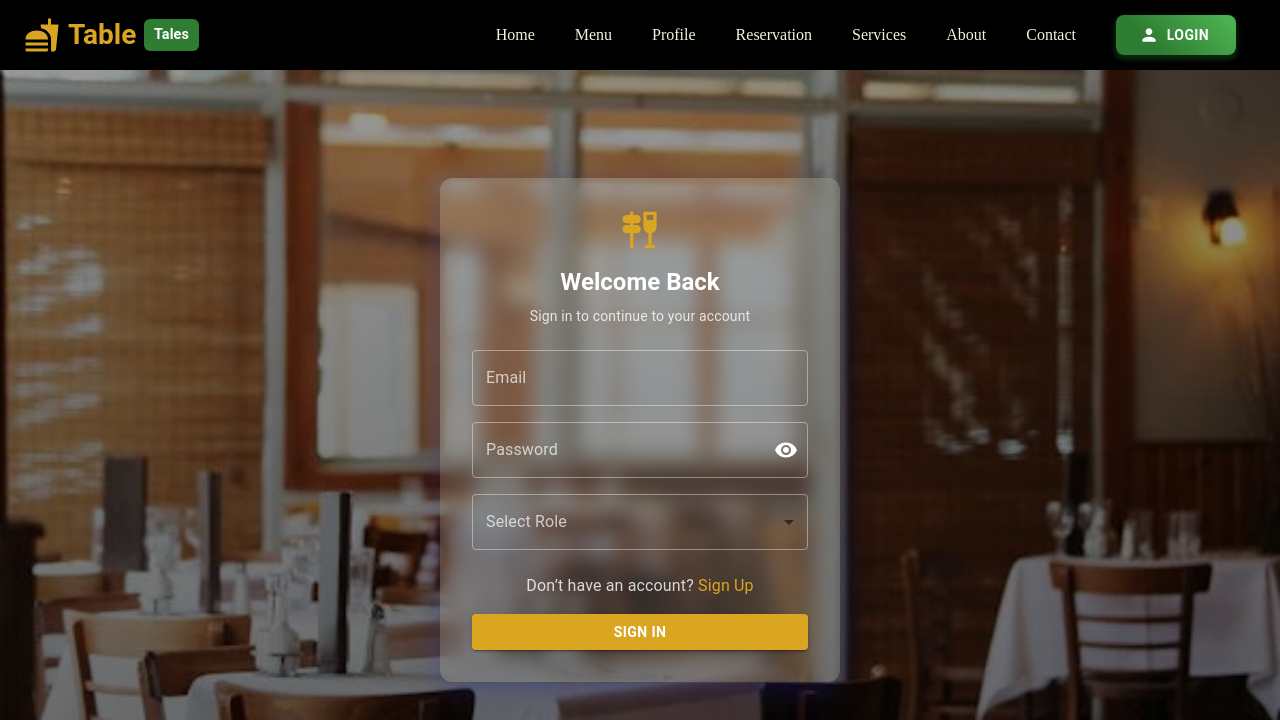
Test case: Signin Page Tests › should show error for invalid email
Type "invalid-email" into the field with test id "email-input" at x=640, y=378, box x1=472 y1=350 x2=808 y2=406
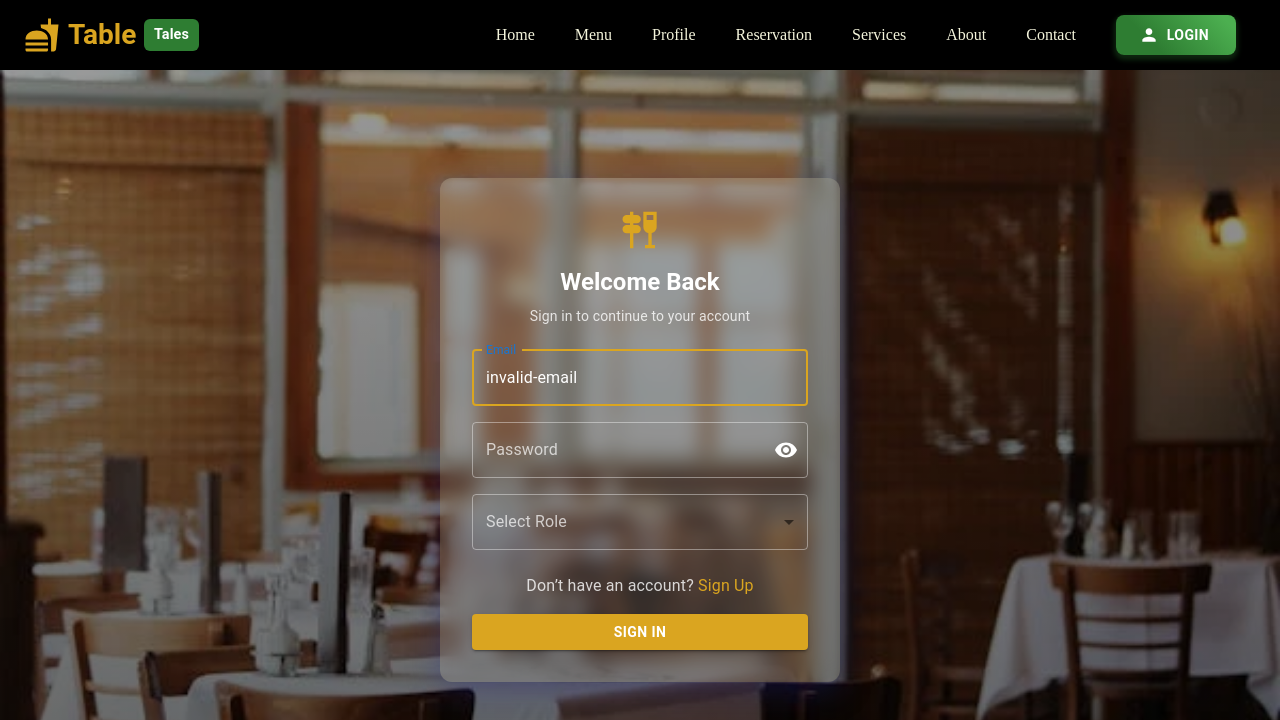
Type "password123" into the element with test id "password-input" at x=640, y=450, box x1=472 y1=422 x2=808 y2=478
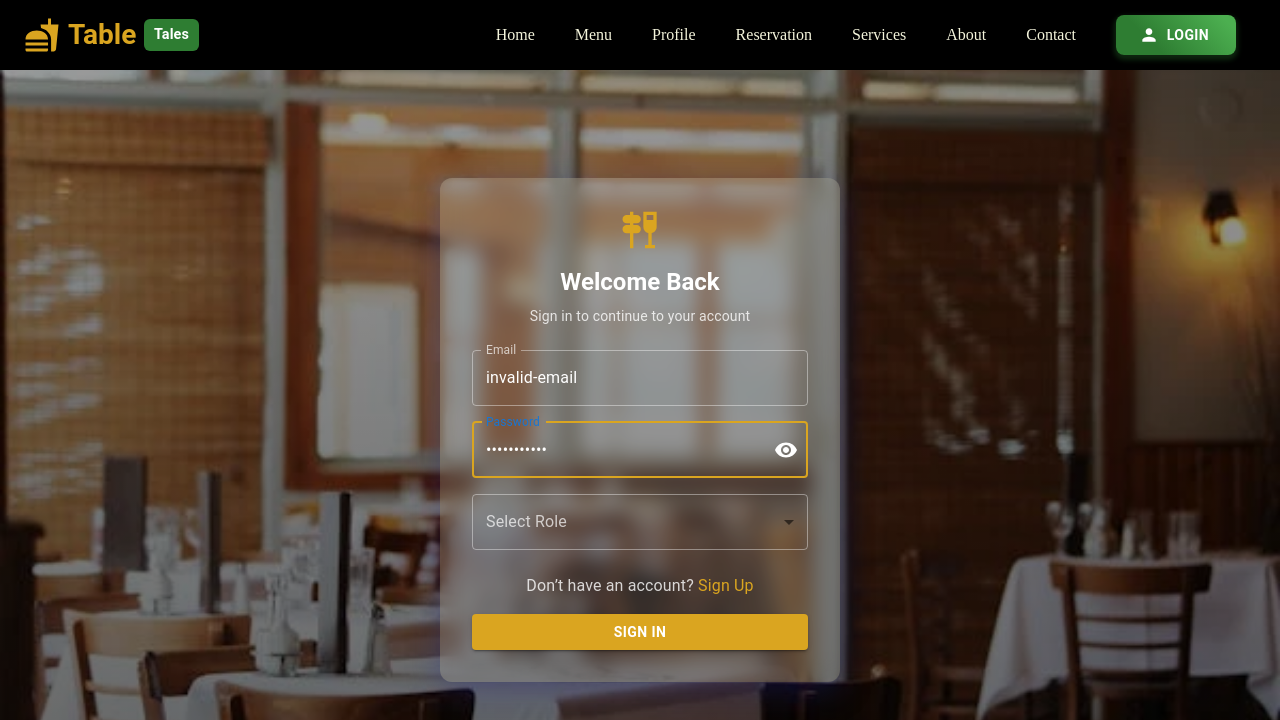
Click the element with test id "role-select" at x=640, y=522, box x1=472 y1=494 x2=808 y2=550
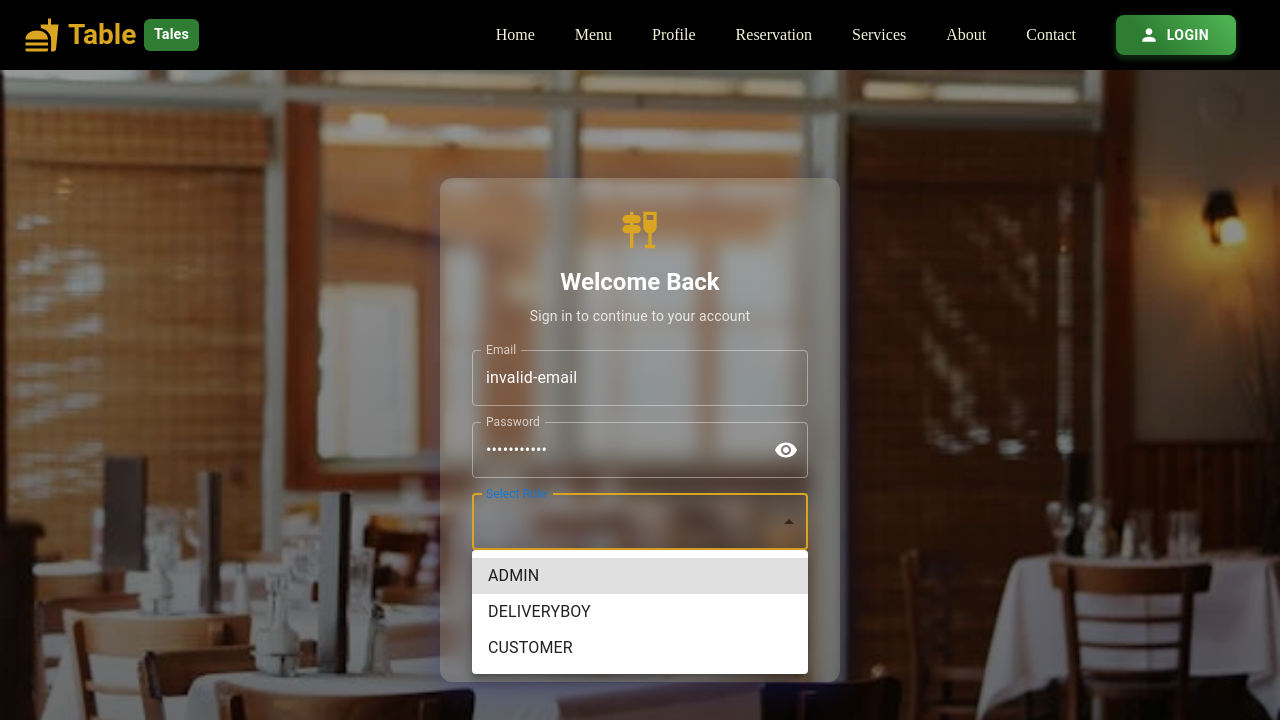
Click the option "CUSTOMER" at x=531, y=648, box x1=488 y1=638 x2=573 y2=657
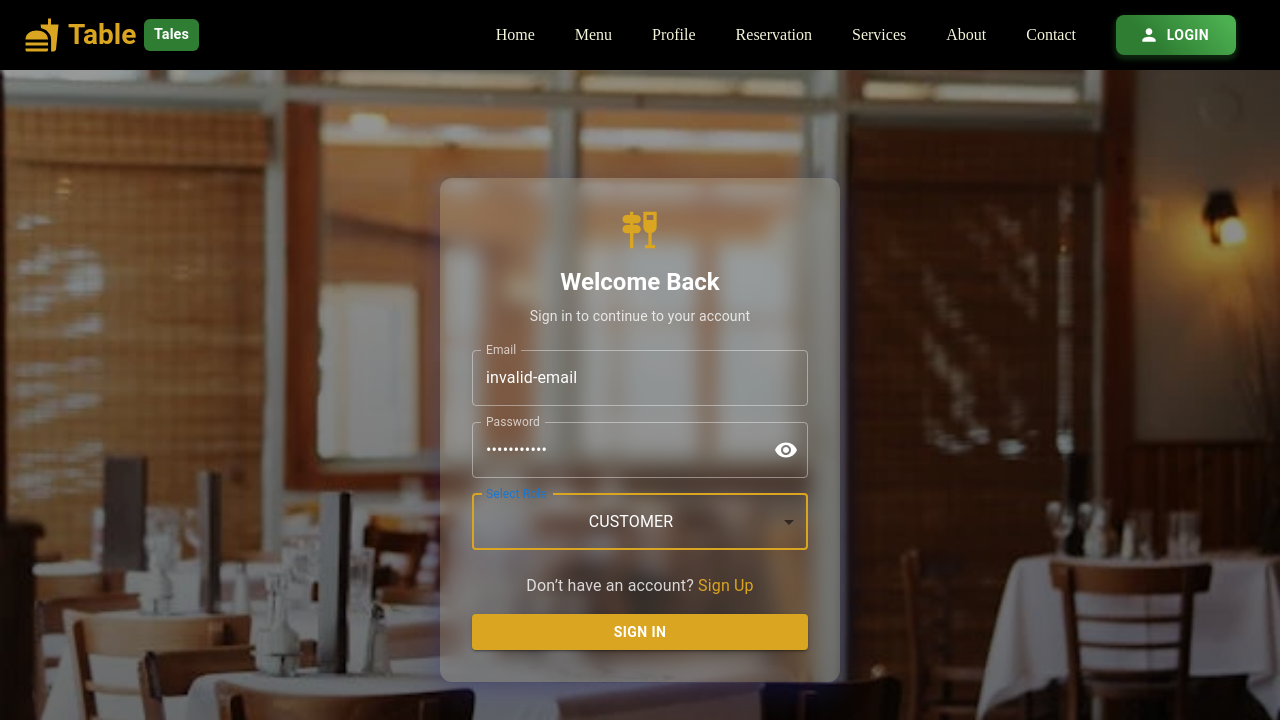
Scroll
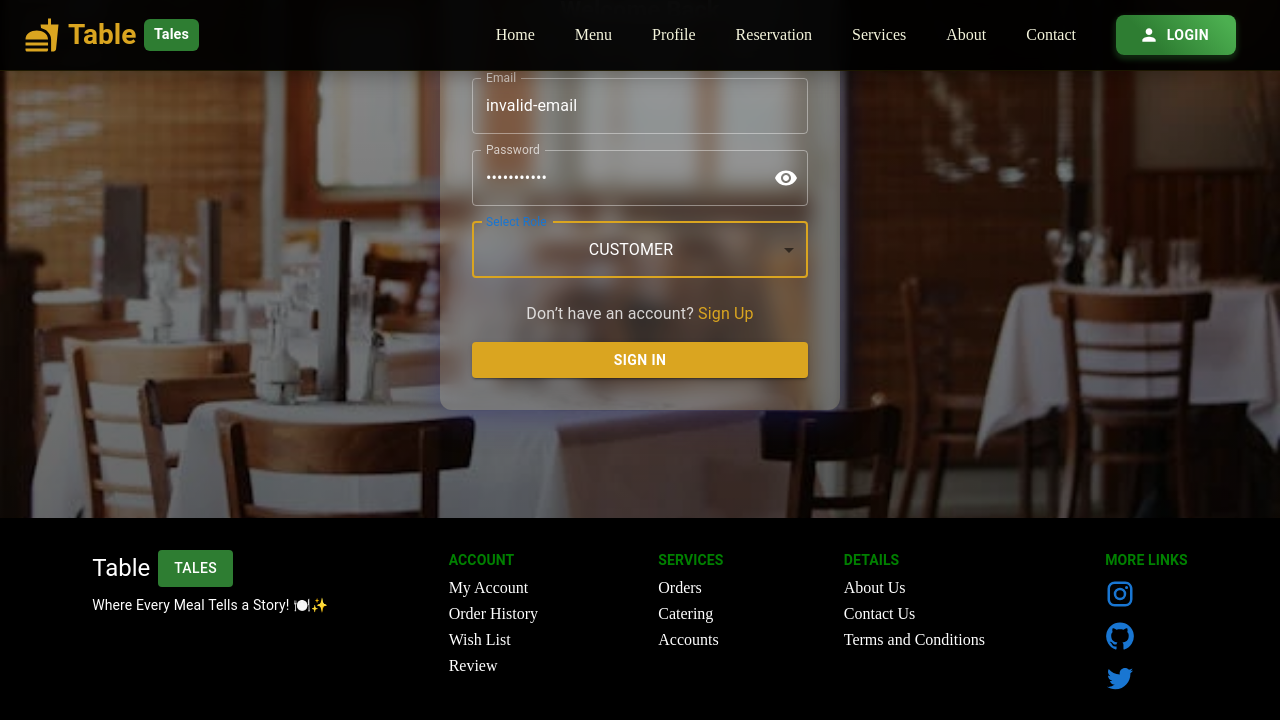
Click the button with test id "signin-button" at x=640, y=361, box x1=472 y1=342 x2=808 y2=379
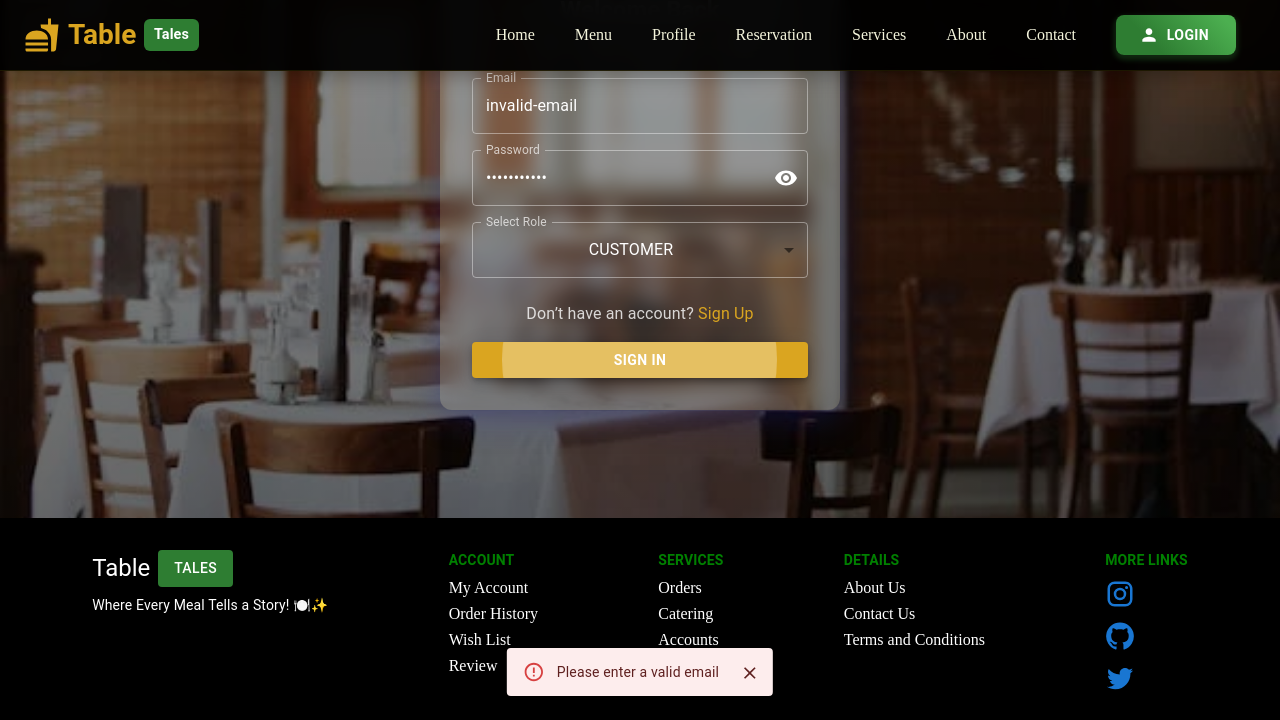
Result: the text "Please enter a valid email" is shown at x1=557 y1=664 x2=719 y2=680
